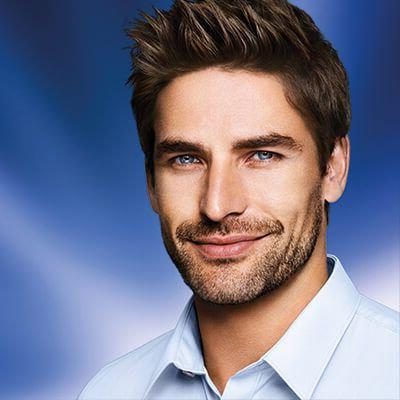Sober: (157, 84, 320, 296)
